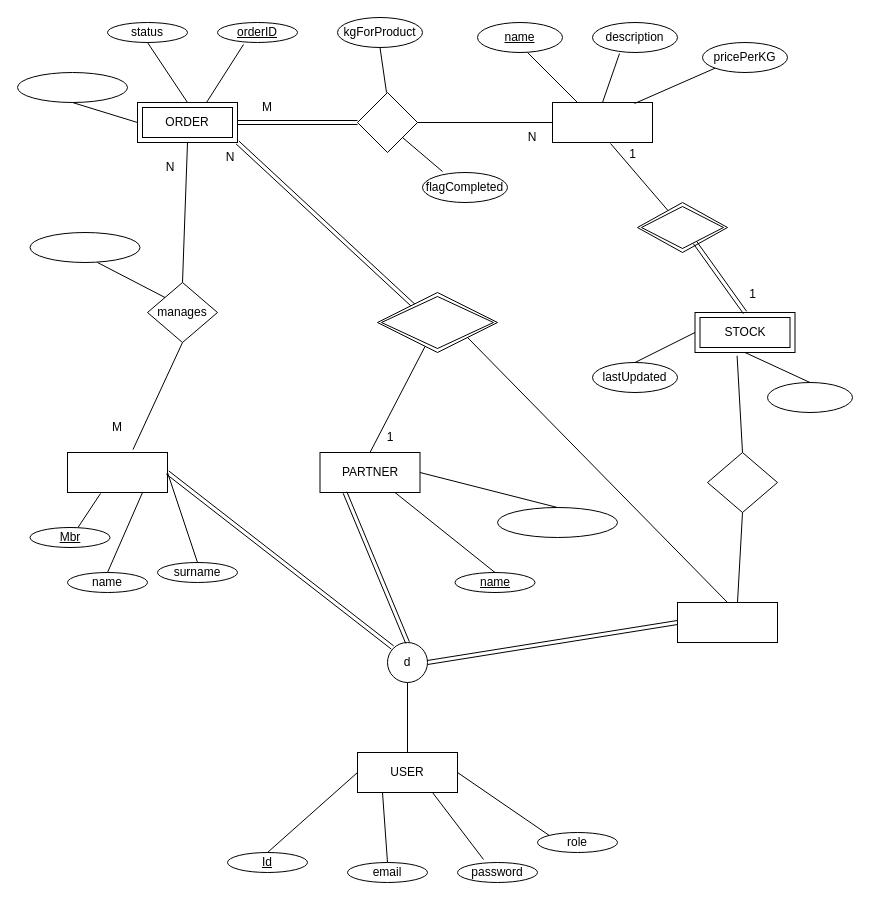
Some shapes in this 870 by 900 pixel diagram are drawn without their labels. Each missing label, with the centre of its shape:
ADMIN: point (727, 622)
contains: point (387, 122)
currentKg: point (809, 397)
dateAccCreation: point (557, 522)
dateTimeChange: point (84, 247)
dateTimeCreated: point (72, 87)
in: point (682, 227)
places: point (437, 322)
PRODUCT: point (602, 122)
updates: point (742, 482)
WORKER: point (117, 472)
